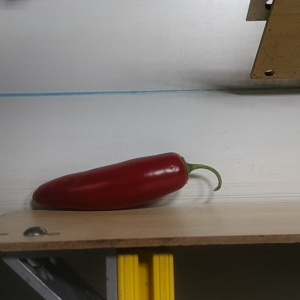Cut Point: (170, 151, 198, 190)
